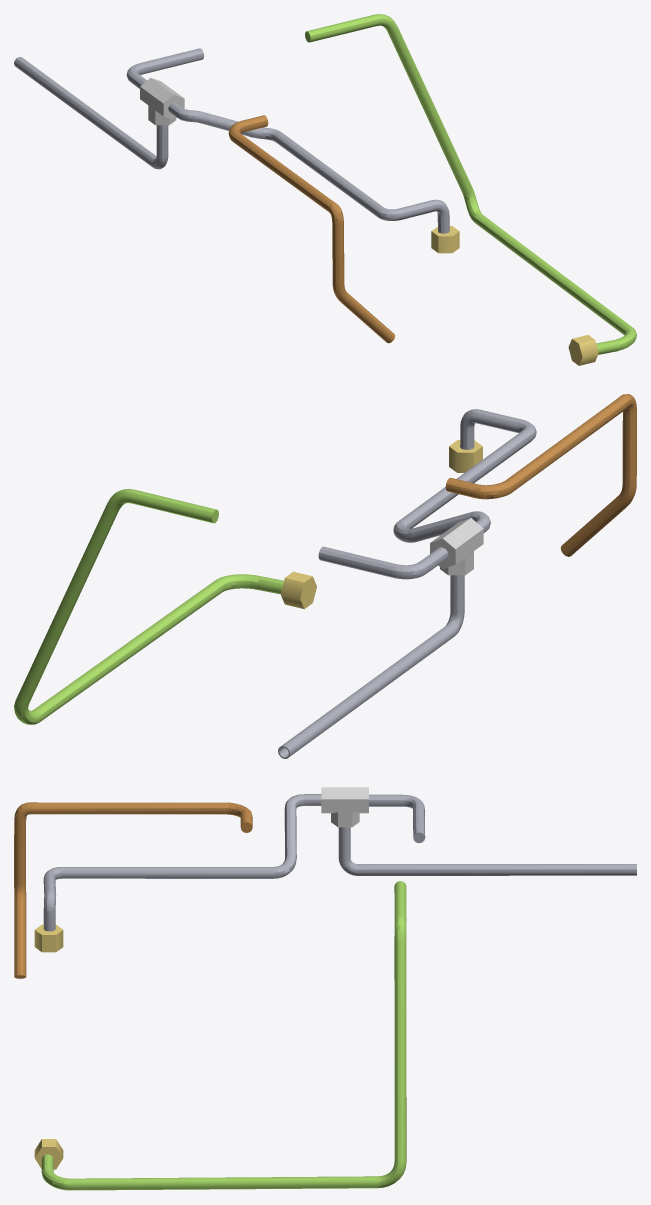
Rendered from pipes.gltf.
The picture shows the model from 3 angles, top to bottom: view 1: azimuth 30°, elevation 25°; view 2: azimuth 150°, elevation 25°; view 3: azimuth 270°, elevation 25°; orthographic projection. The views are drawn at different scales.
Parts seen in each view (by area): view 1: Line03, Cylinder09; view 2: Line03, Cylinder09; view 3: Line03, Cylinder09.
Part boxes in pixels (x1,y1,x2,y2): Line03: (14, 14, 636, 354); Cylinder09: (140, 77, 598, 365); Line03: (14, 394, 636, 758); Cylinder09: (280, 440, 483, 609); Line03: (14, 794, 636, 1190); Cylinder09: (34, 787, 368, 1169).
Size of the model in its own units: 8.76 by 5.66 by 13.26.
